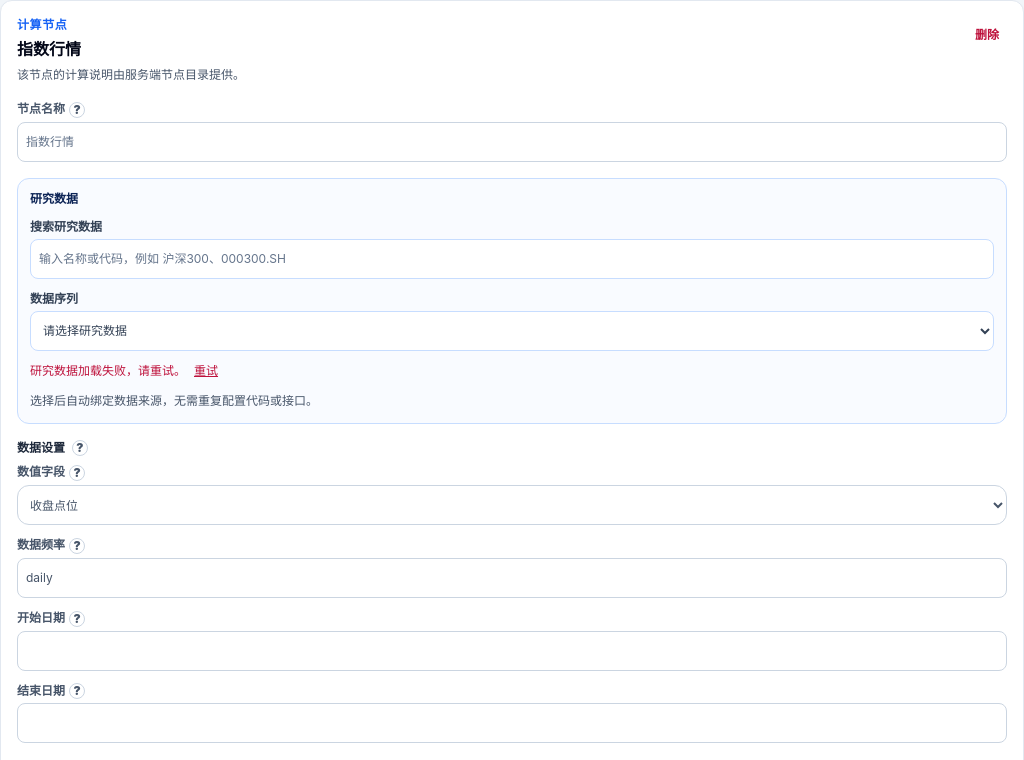
Test: 情景研究数据选择 › 区分加载失败和空结果，支持重试
The width and height of the screenshot is (1024, 760).
Expected: the message shows "研究数据加载失败", [30,363,186,378]
Click the button "重试" at (206, 371), box [194,363,218,379]
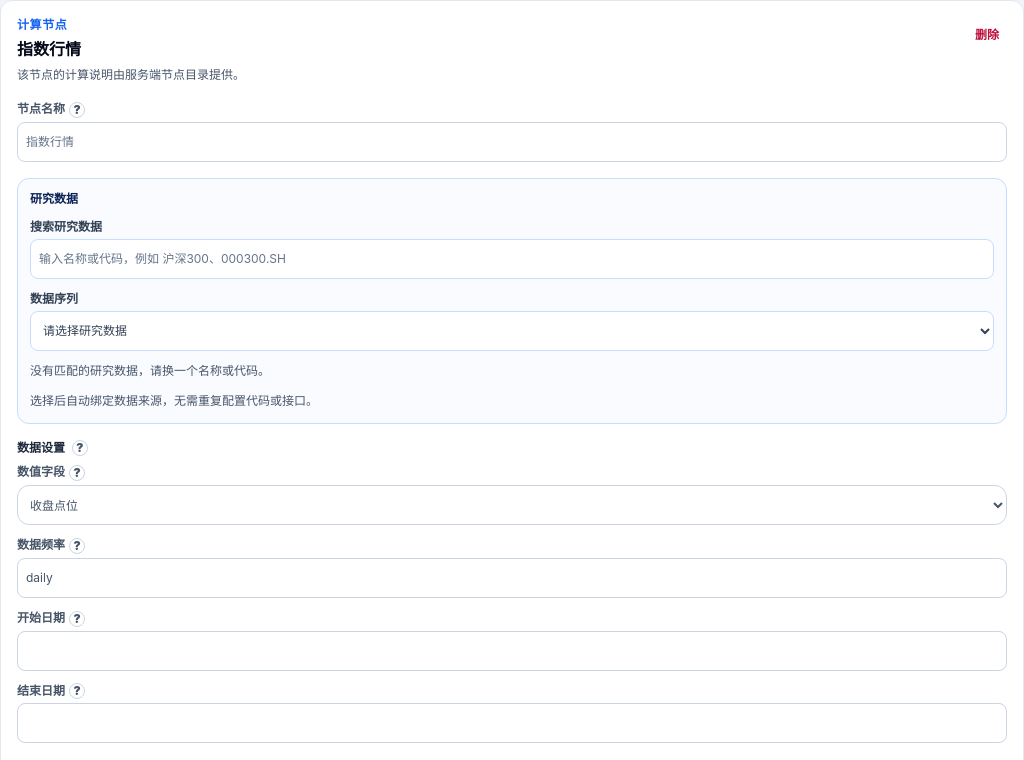
Expected: the text "没有匹配的研究数据，请换一个名称或代码。" is shown, [30,363,270,378]
